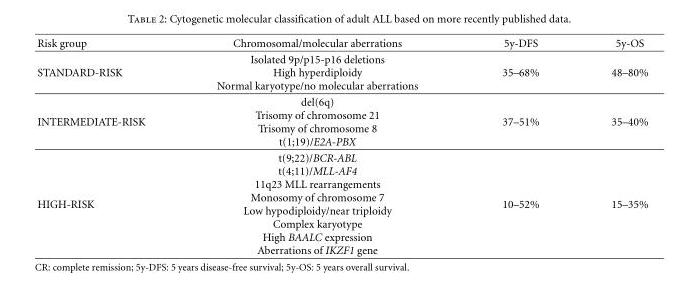table: (36, 36, 647, 255)
table column: (180, 36, 459, 255), (36, 36, 180, 255), (459, 36, 574, 255), (574, 36, 647, 255)
table column header: (36, 36, 647, 50)
table row: (36, 149, 647, 255), (36, 93, 647, 149), (36, 50, 647, 93), (36, 36, 647, 50)
